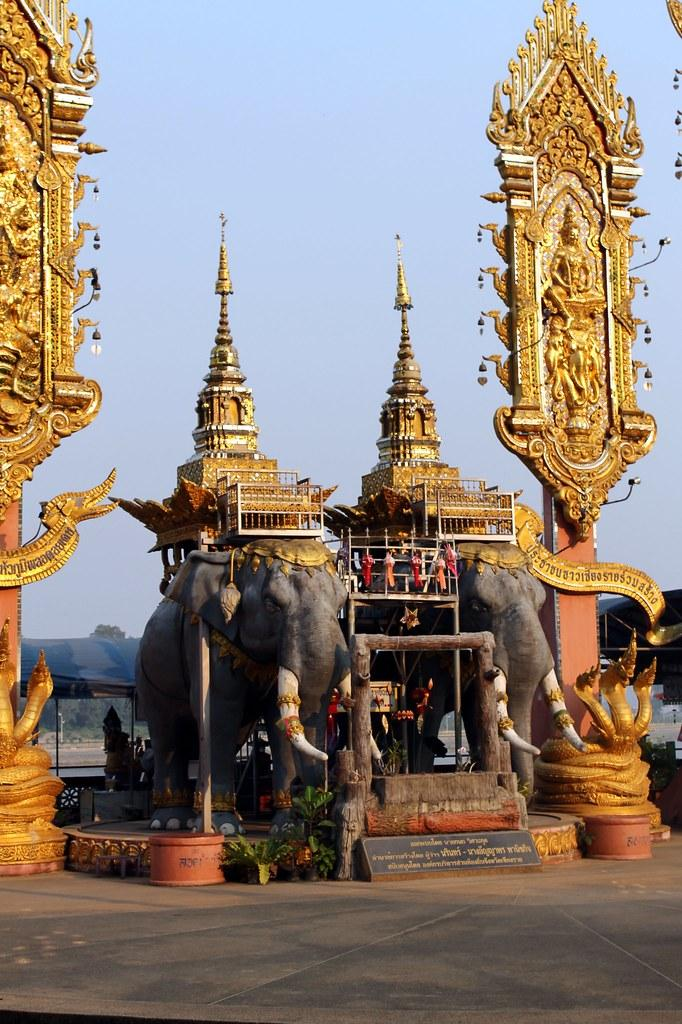temple: (471, 1, 667, 797), (1, 1, 118, 877), (114, 209, 340, 595), (357, 232, 465, 514)
